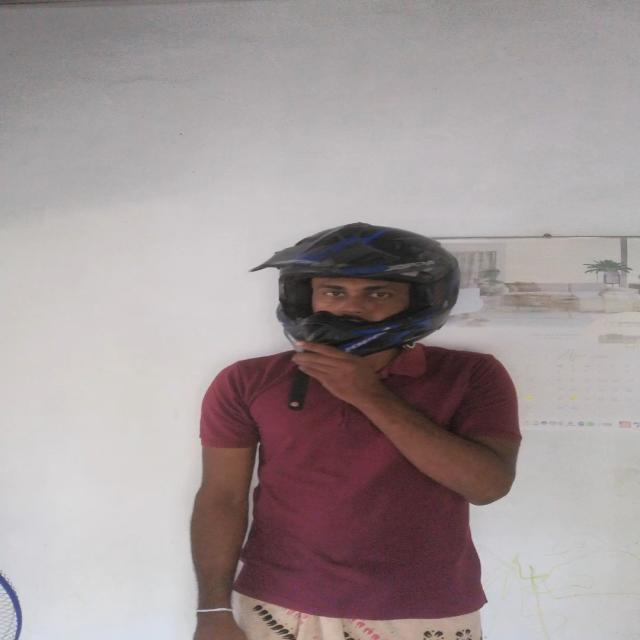Helmet_Wearer: (240, 214, 468, 392)
